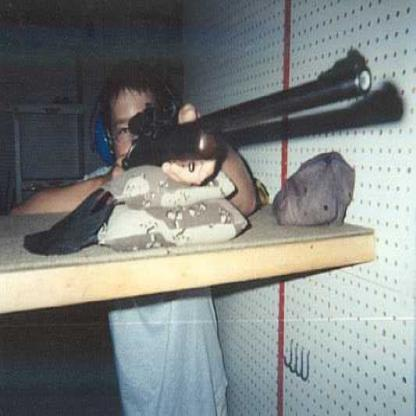rifle: (119, 42, 388, 193)
